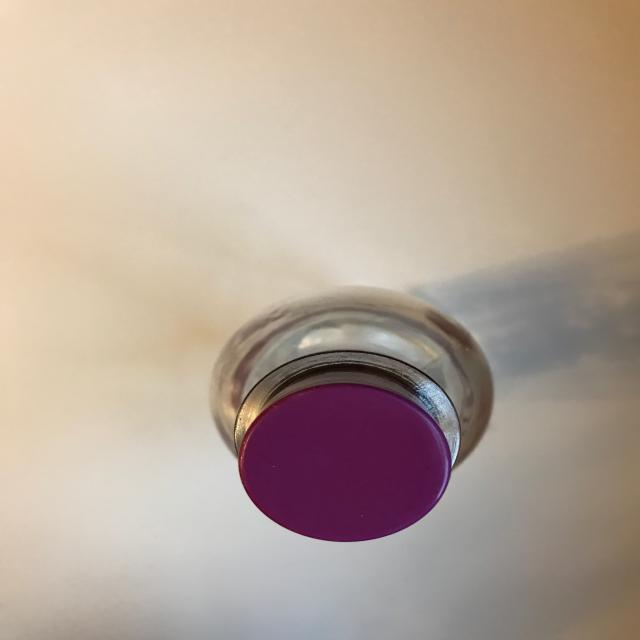Glass: (185, 257, 526, 559)
